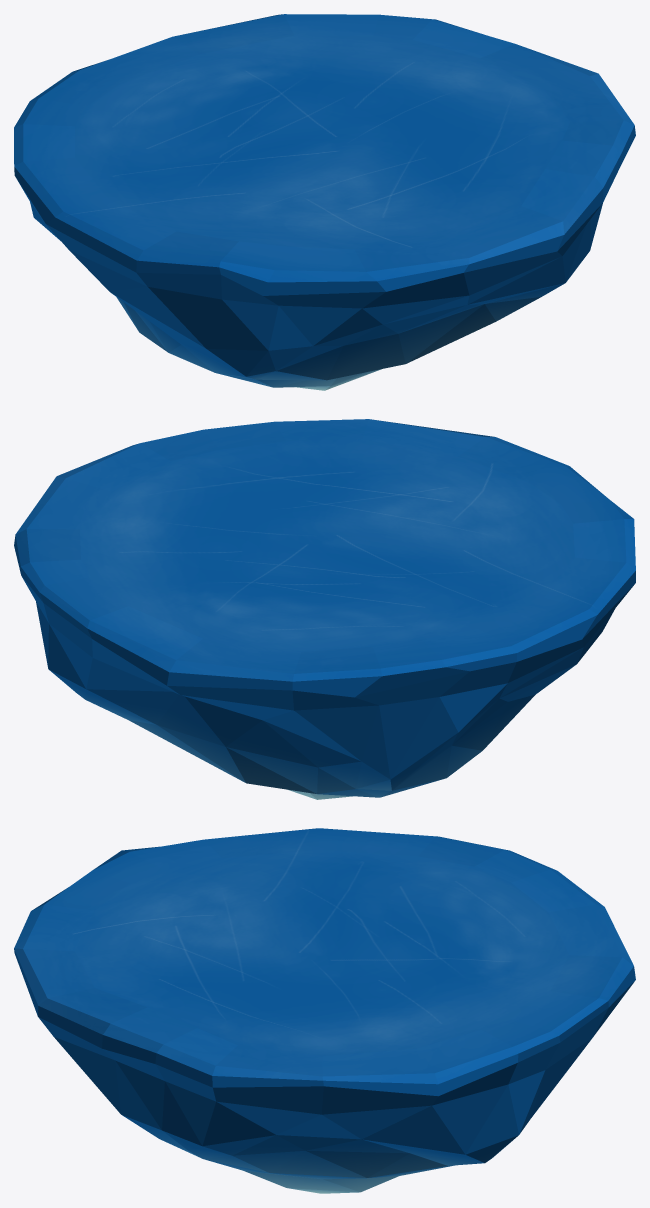
File: Floating_IcePlatform02.fbx
3 views of the same model, one above another, from view 1: azimuth 30°, elevation 25°; view 2: azimuth 150°, elevation 25°; view 3: azimuth 270°, elevation 25° (orthographic).
Parts seen in each view (by area): view 1: FloatingPlatform02; view 2: FloatingPlatform02; view 3: FloatingPlatform02.
Part boxes in pixels (box(x1,y1,x2,y2)): FloatingPlatform02: box(14, 14, 635, 390); FloatingPlatform02: box(14, 419, 635, 799); FloatingPlatform02: box(14, 828, 635, 1193).
Bounding box in the file's own units: 7.14 × 3.18 × 7.18.
